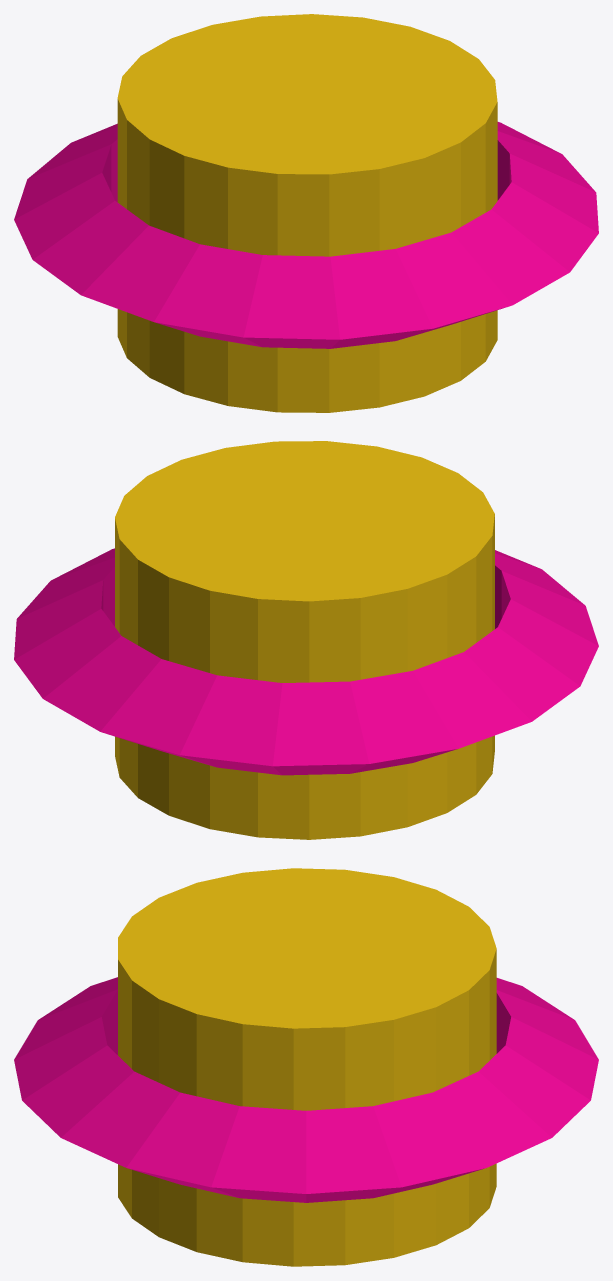
File: push.fbx
3 views of the same model, one above another, from view 1: azimuth 30°, elevation 25°; view 2: azimuth 150°, elevation 25°; view 3: azimuth 270°, elevation 25° (orthographic).
Parts seen in each view (by area): view 1: Cylinder, Torus.002; view 2: Cylinder, Torus.002; view 3: Cylinder, Torus.002.
Part boxes in pixels (left/top/right/bottom): Cylinder: left=117, top=14, right=497, bottom=412; Torus.002: left=14, top=122, right=598, bottom=348; Cylinder: left=115, top=441, right=494, bottom=839; Torus.002: left=14, top=548, right=598, bottom=775; Cylinder: left=118, top=868, right=496, bottom=1266; Torus.002: left=14, top=977, right=598, bottom=1202.
Bounding box in the file's own units: 248 × 112 × 249.
